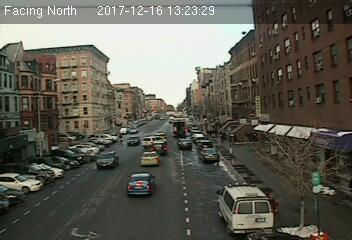bicycle: (117, 134, 124, 144)
car: (127, 173, 156, 197), (96, 150, 120, 170), (139, 150, 161, 167), (200, 148, 221, 165), (177, 138, 193, 151), (154, 141, 167, 155), (126, 136, 141, 147)
police: (215, 182, 273, 235)
